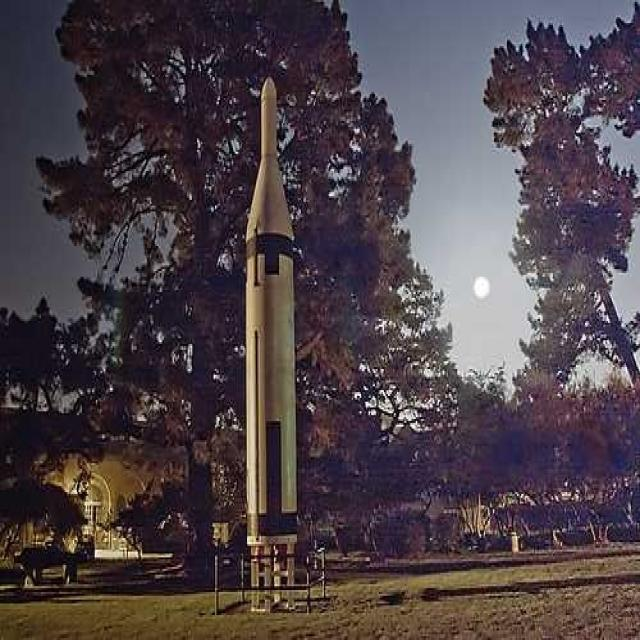missile: (228, 72, 324, 613)
